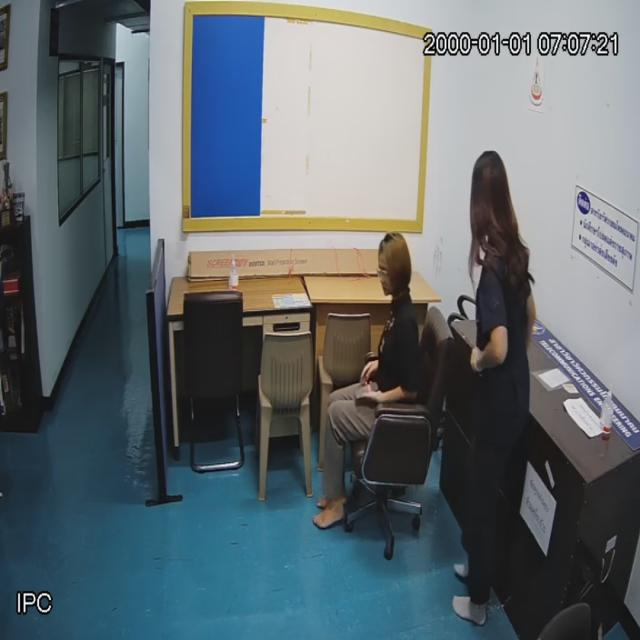normal: (449, 153, 537, 635), (315, 219, 423, 551)
